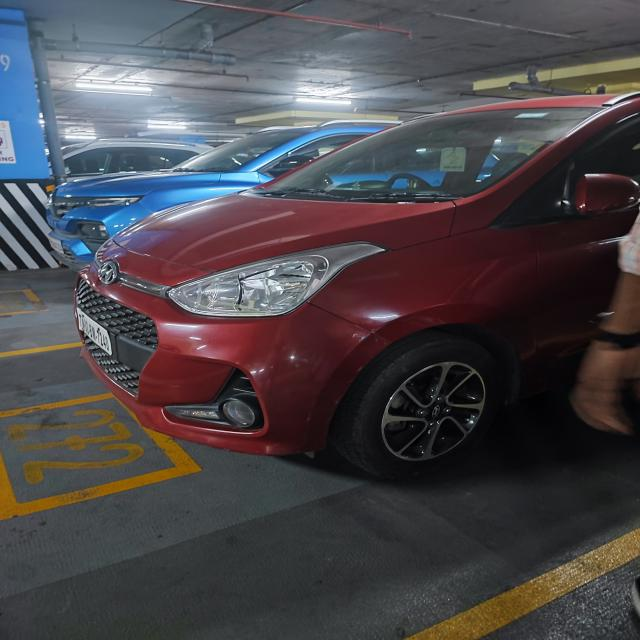scratch: (347, 324, 391, 346)
